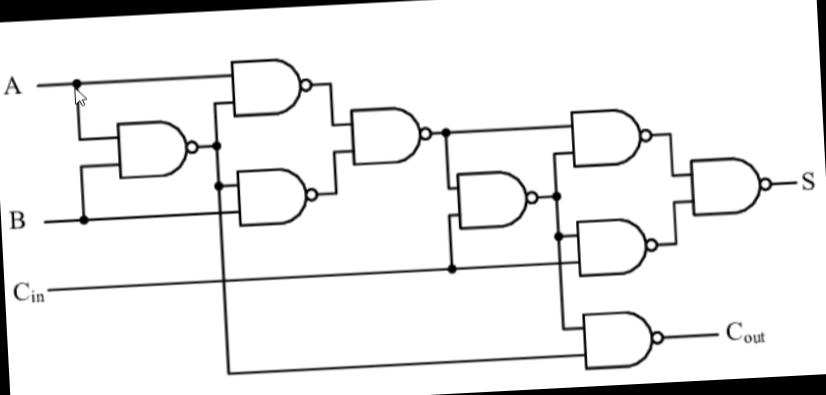nand: (224, 47, 317, 122), (686, 150, 776, 226), (561, 101, 653, 174), (576, 305, 668, 378), (344, 98, 436, 169), (569, 214, 663, 280), (108, 114, 198, 182), (454, 164, 540, 234), (232, 162, 322, 227)
